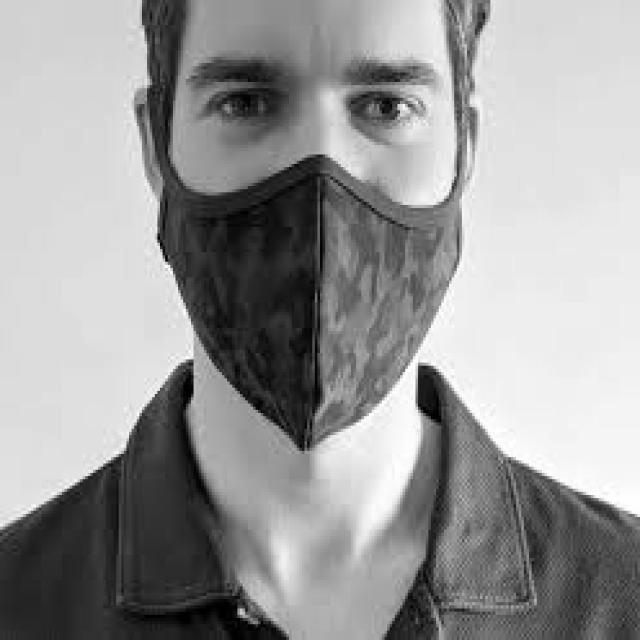fake: (156, 150, 468, 449)
real: (175, 4, 468, 447)
